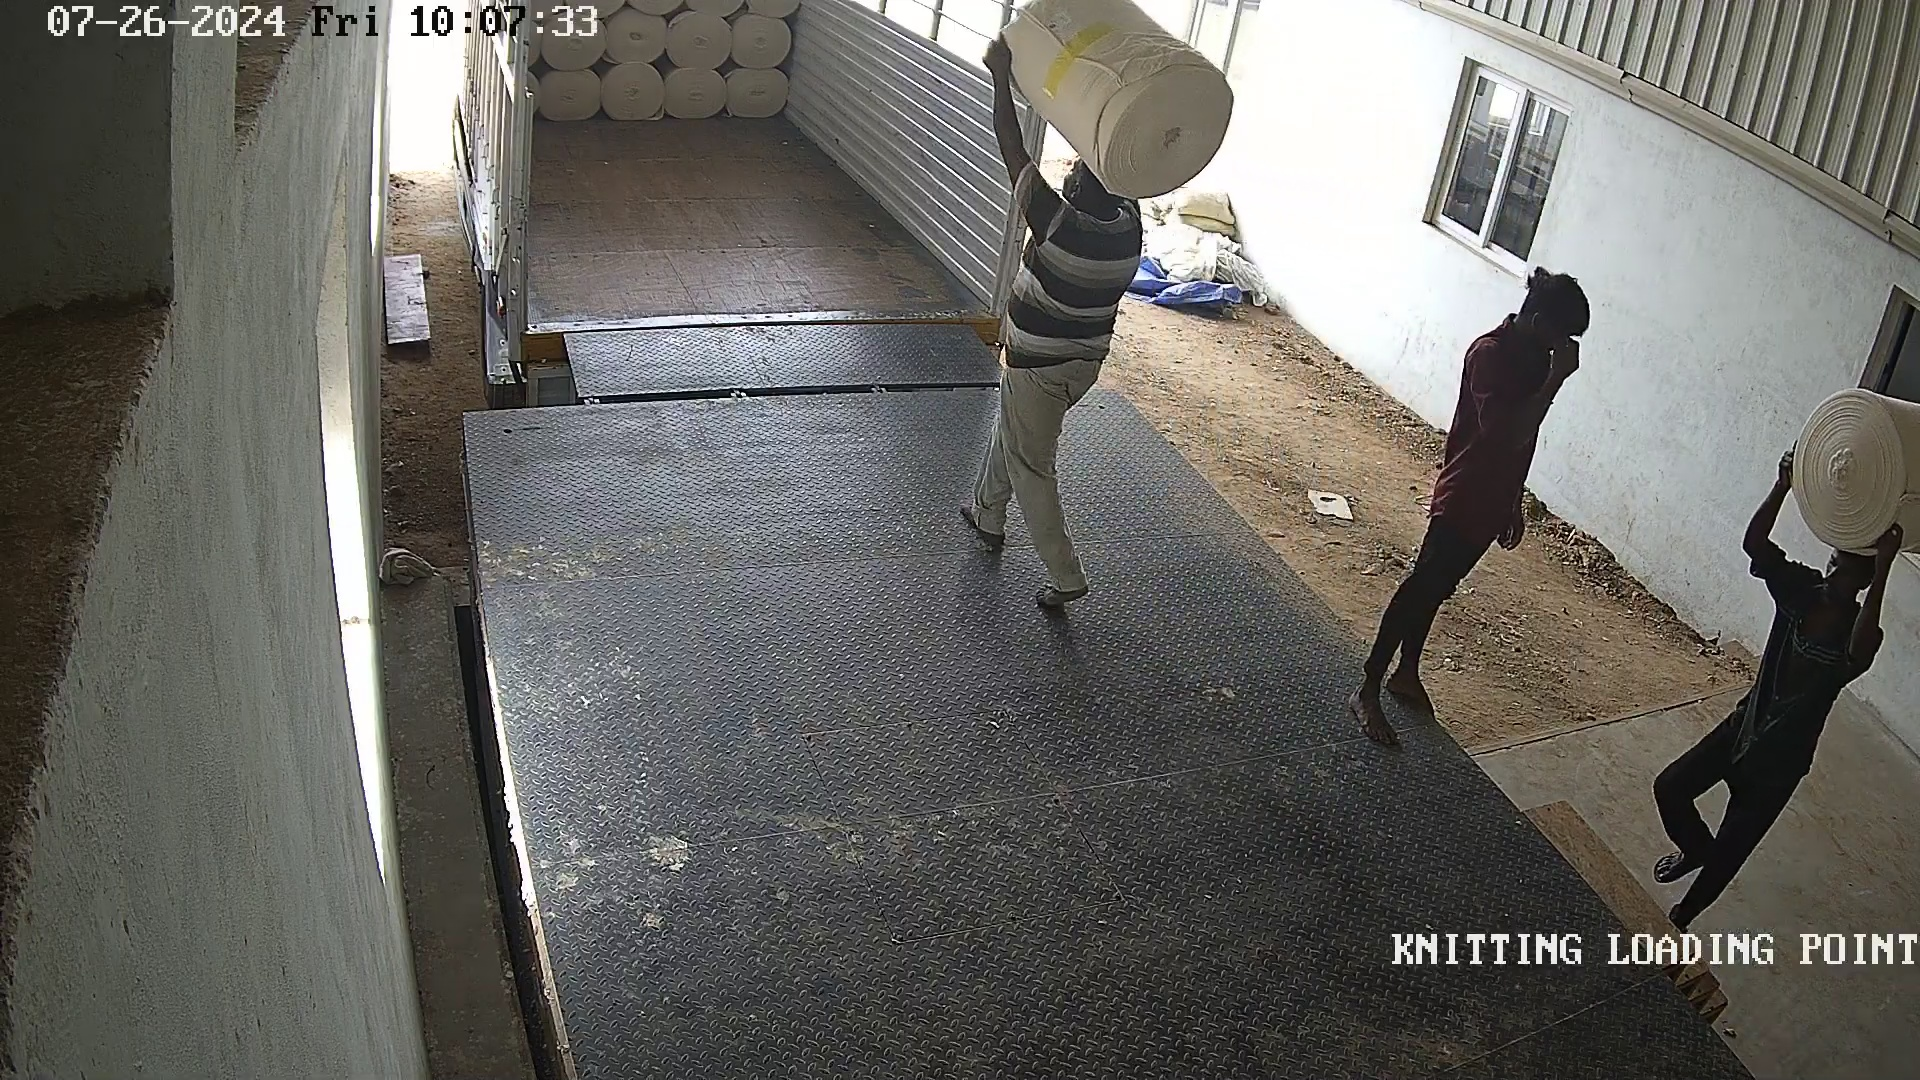bag: (973, 3, 1262, 200)
